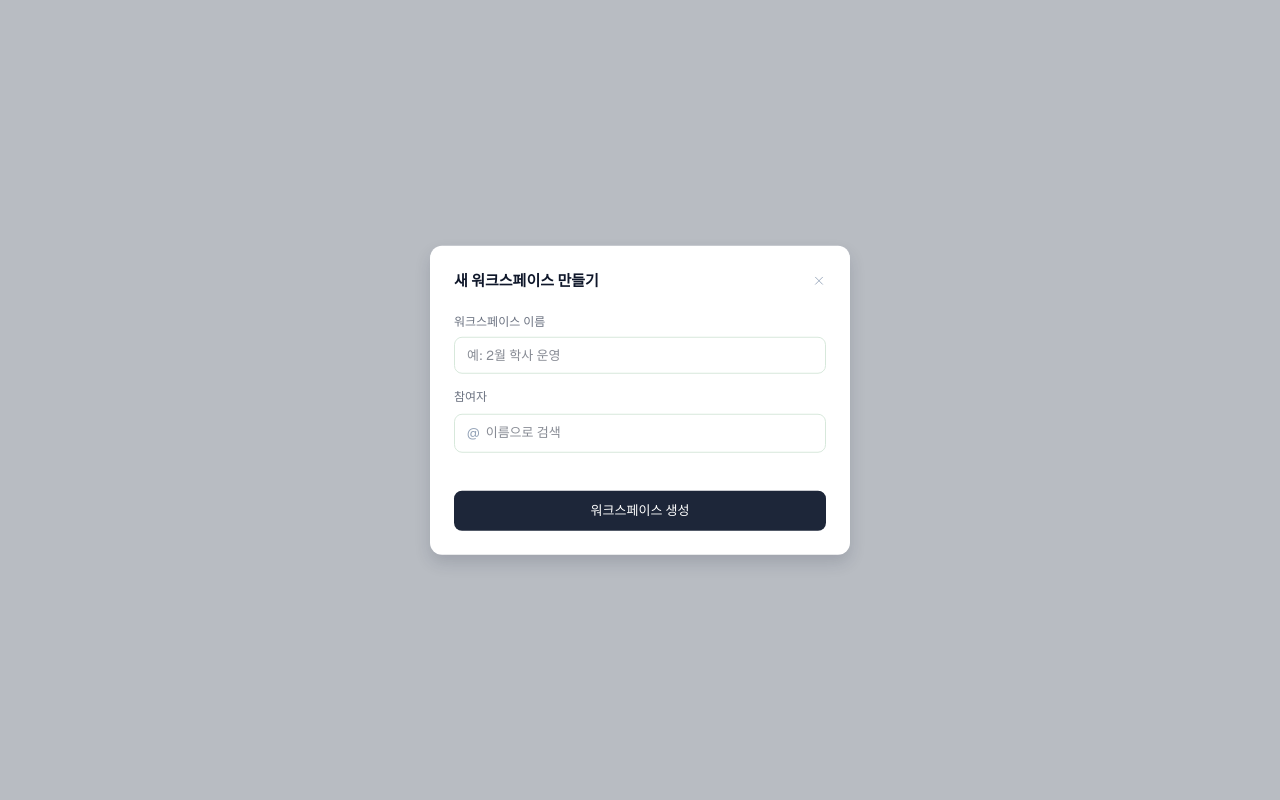
Test: CreateWorkspaceModal › 참여자 검색 결과를 모달에 잘리지 않는 최상위 목록으로 표시하고 선택한다
This screenshot has width=1280, height=800.
Focus the search field with placeholder "이름으로 검색" at [649, 433], box [486, 423, 813, 442]
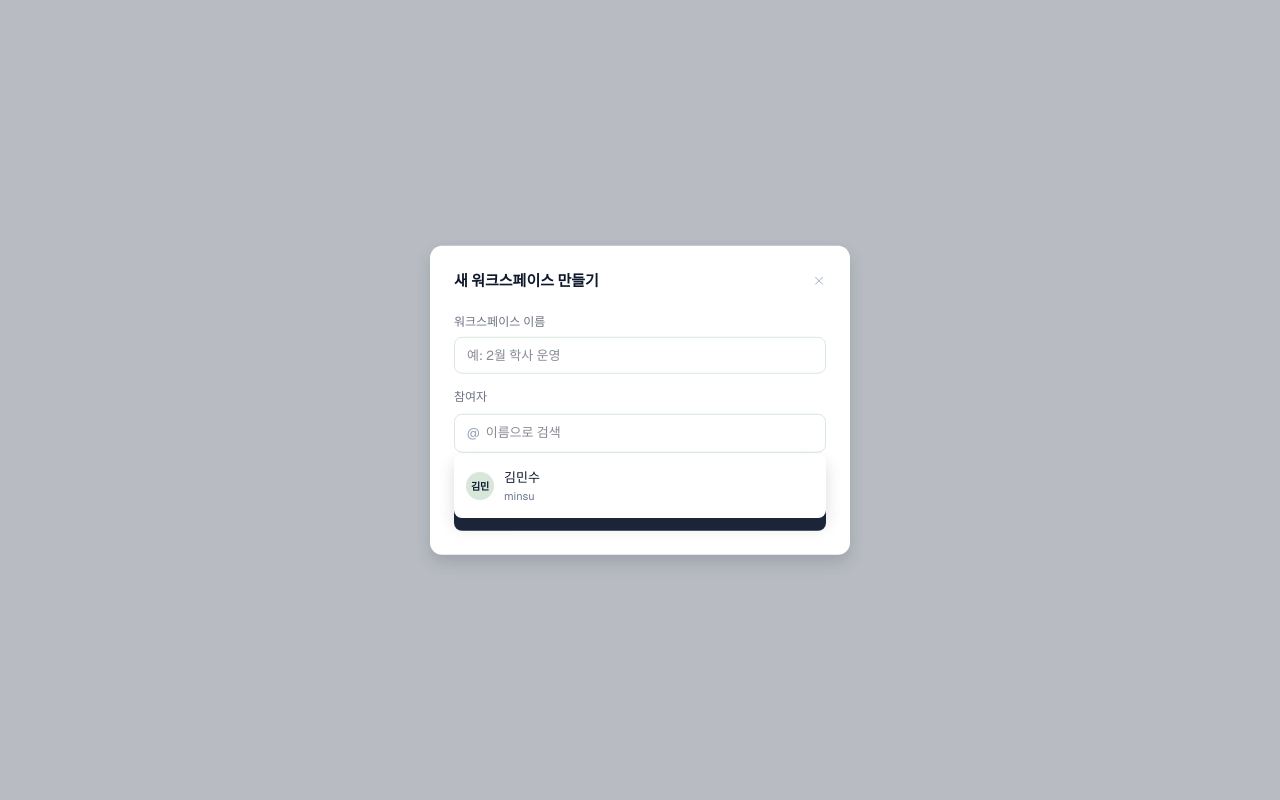
Click the button "김민 김민수 minsu" at [522, 478], box [454, 458, 826, 514]
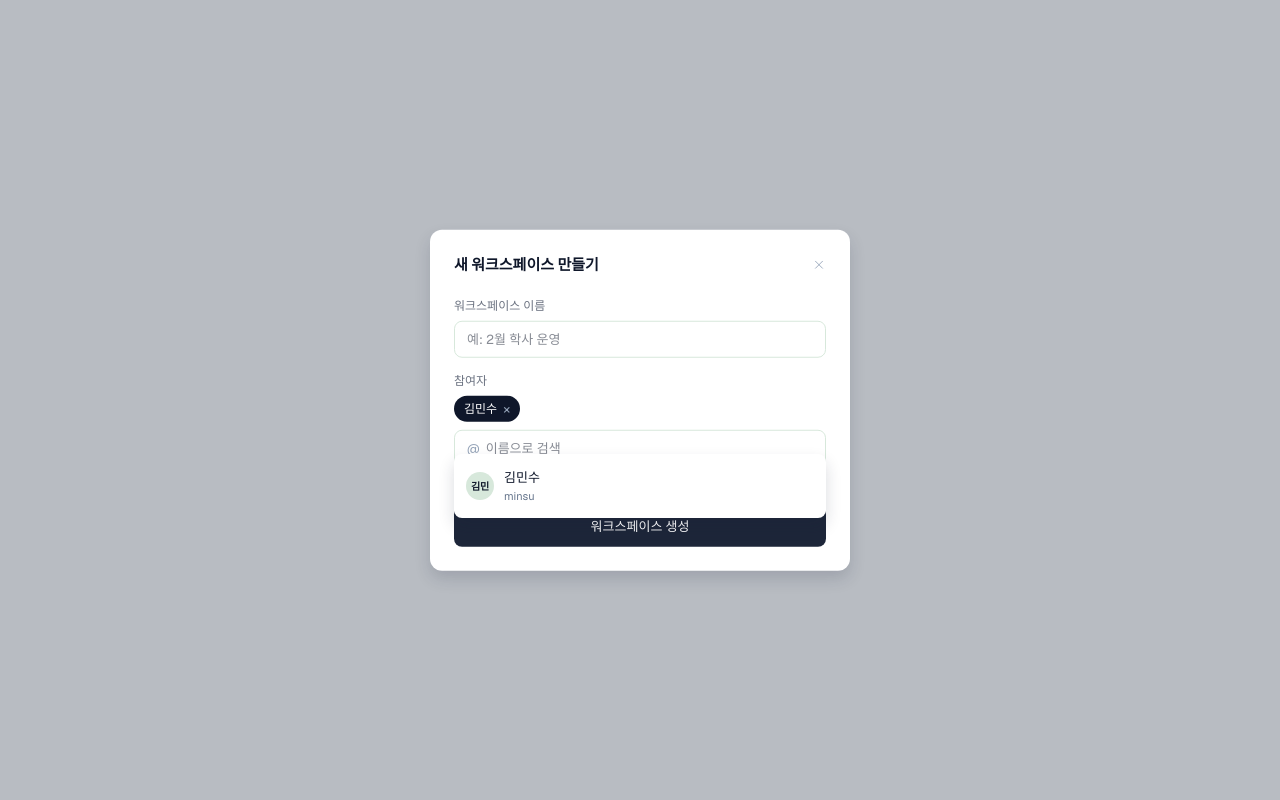
Expected: the button named "김민수 참여자 제거" is shown, [503, 401, 510, 415]
